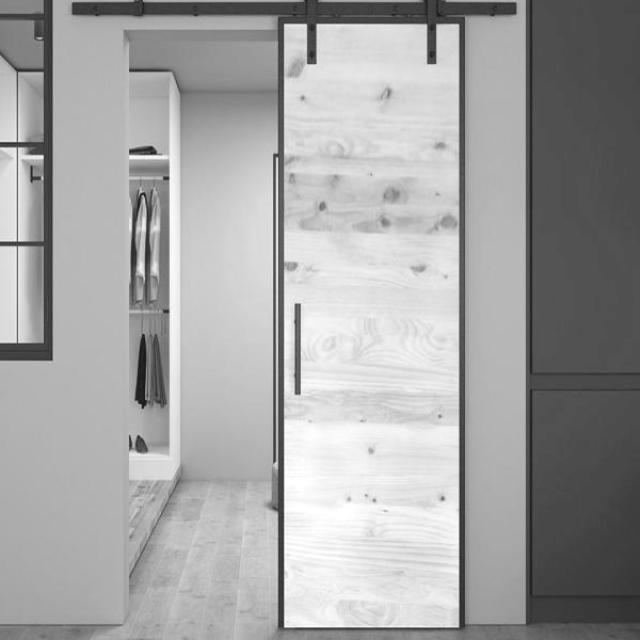Door: (276, 14, 464, 630)
